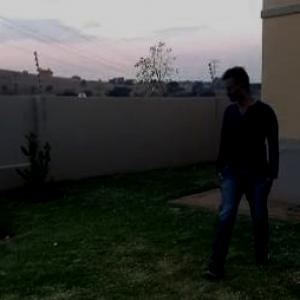follow: (201, 56, 279, 287)
